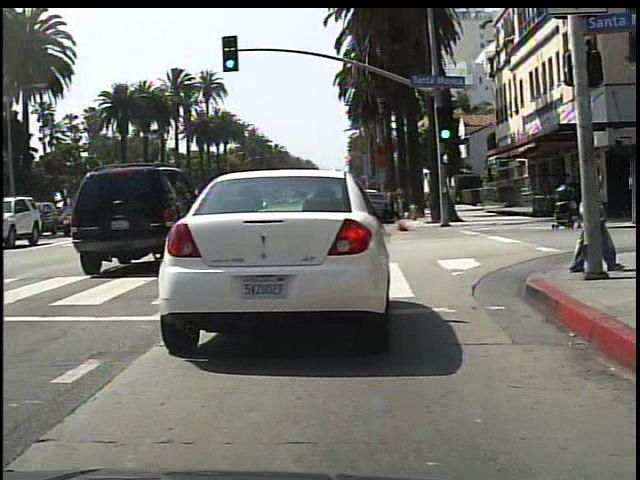car: (158, 139, 395, 340), (67, 166, 188, 273)
striscie pedonali: (5, 274, 159, 319)
